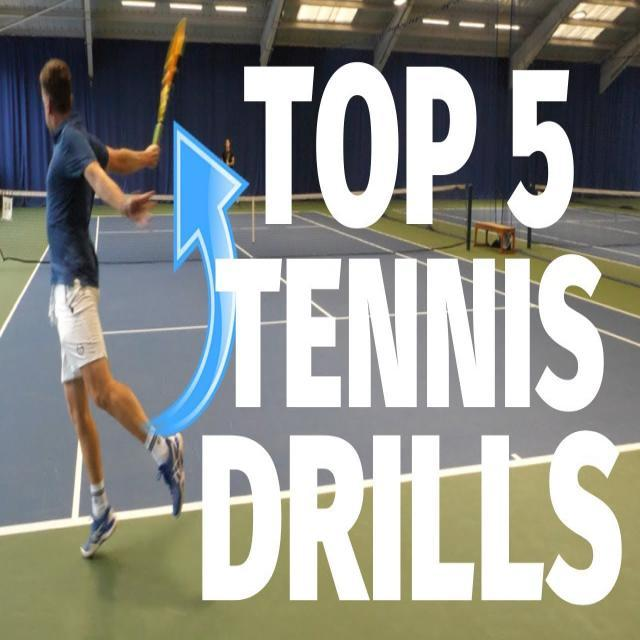player: (28, 13, 195, 559)
